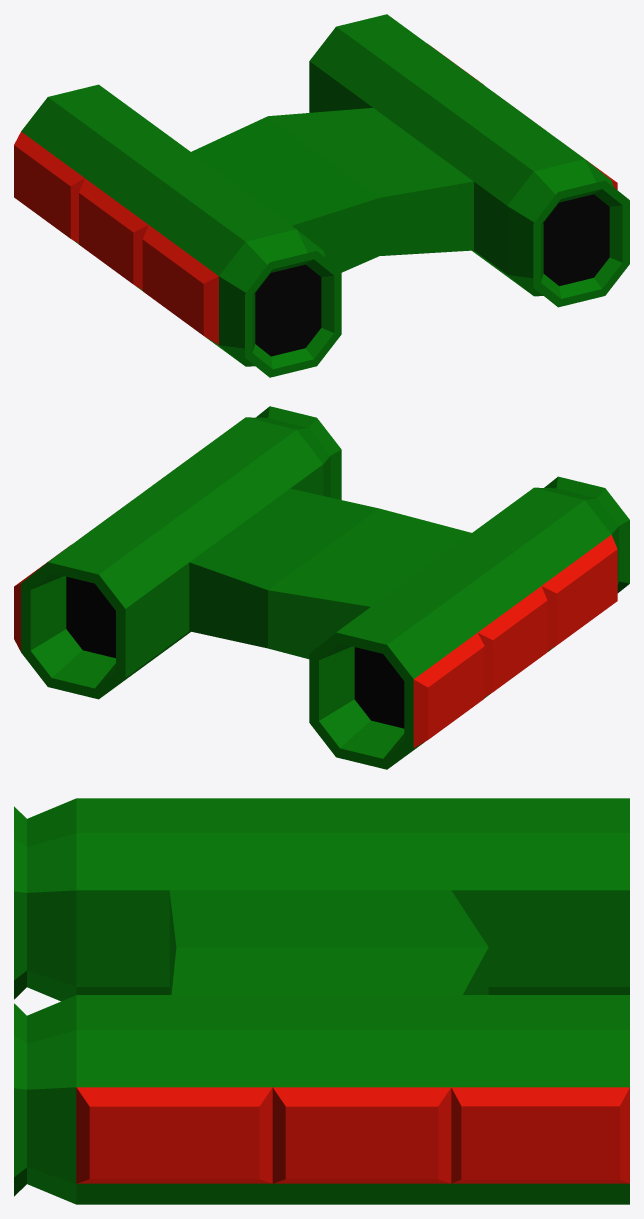
File: Binoculars.fbx
The picture shows the model from 3 angles, top to bottom: view 1: azimuth 30°, elevation 25°; view 2: azimuth 150°, elevation 25°; view 3: azimuth 270°, elevation 25°; orthographic projection. The views are drawn at different scales.
Parts seen in each view (by area): view 1: Binoculars; view 2: Binoculars; view 3: Binoculars.
Part boxes in pixels (box(x1,y1,x2,y2)): Binoculars: box(14, 14, 629, 377); Binoculars: box(14, 406, 629, 769); Binoculars: box(14, 798, 629, 1204).
Bounding box in the file's own units: 78.17 × 22.52 × 71.97.
